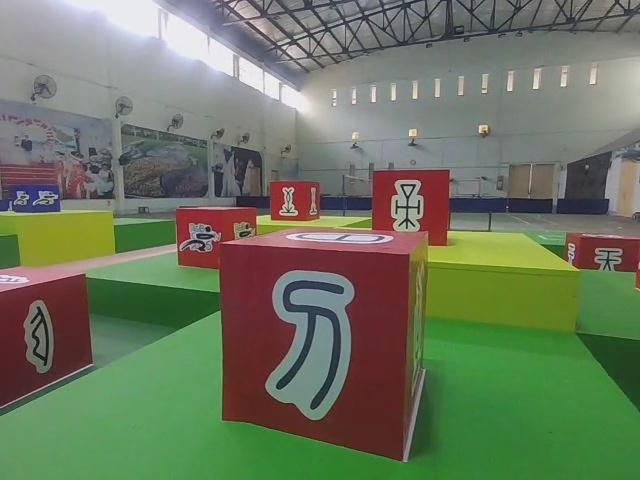R1: (171, 202, 258, 273)
R2 Fake: (216, 224, 432, 463)
R2 Real: (0, 263, 97, 412), (368, 166, 451, 248), (267, 178, 323, 224)
